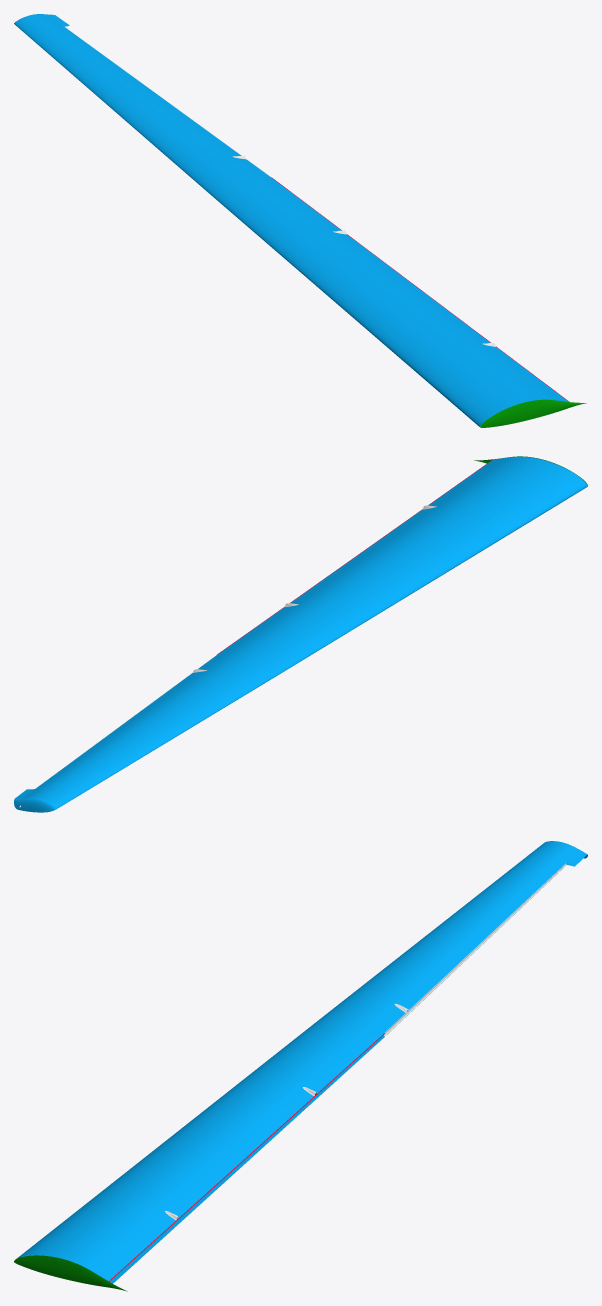
Rendered from pik_20b_right_wing.dae.
3 renders of one model, top to bottom at view 1: azimuth 30°, elevation 25°; view 2: azimuth 150°, elevation 25°; view 3: azimuth 330°, elevation 25°, orthographic. The views are drawn at different scales.
Visible parts, largest first — view 1: node1.003; view 2: node1.003; view 3: node1.003.
Part boxes in pixels (x1=…): node1.003: x1=14, y1=14, x2=586, y2=427; node1.003: x1=14, y1=456, x2=587, y2=812; node1.003: x1=14, y1=841, x2=587, y2=1291.
Bounding box in the file's own units: 0.9097 × 7.11 × 0.4452.
